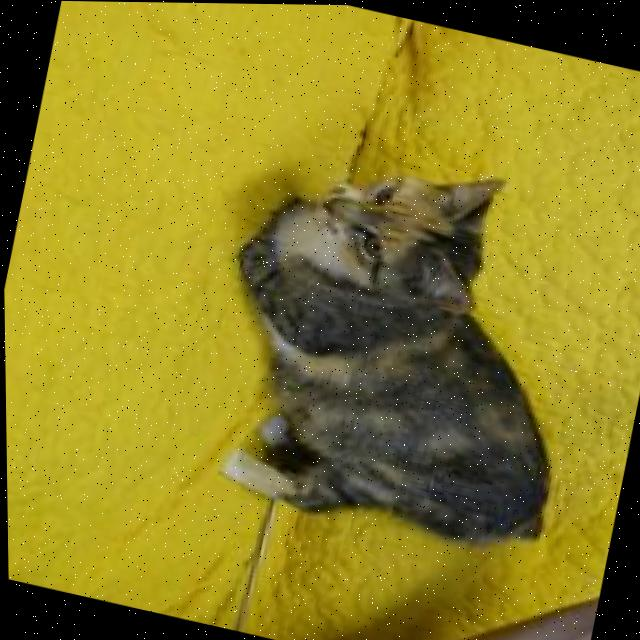American Bobtail: (178, 118, 621, 569)
